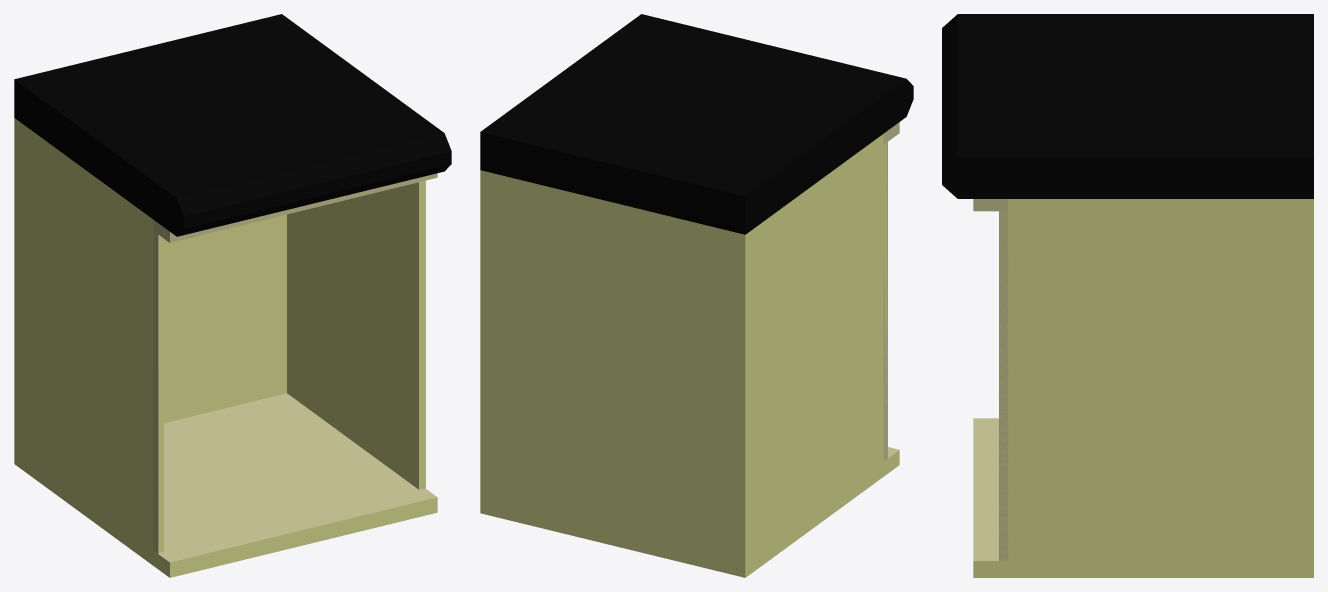
File: EncimeraDer 1.fbx
3 renders of one model, left to right at view 1: azimuth 30°, elevation 25°; view 2: azimuth 150°, elevation 25°; view 3: azimuth 270°, elevation 25°, orthographic. The views are drawn at different scales.
Parts seen in each view (by area): view 1: EnzimeraDer; view 2: EnzimeraDer; view 3: EnzimeraDer.
Part boxes in pixels (x1=…): EnzimeraDer: x1=14, y1=14, x2=451, y2=577; EnzimeraDer: x1=480, y1=14, x2=913, y2=577; EnzimeraDer: x1=942, y1=14, x2=1313, y2=577.
Bounding box in the file's own units: 199 × 273 × 218.
